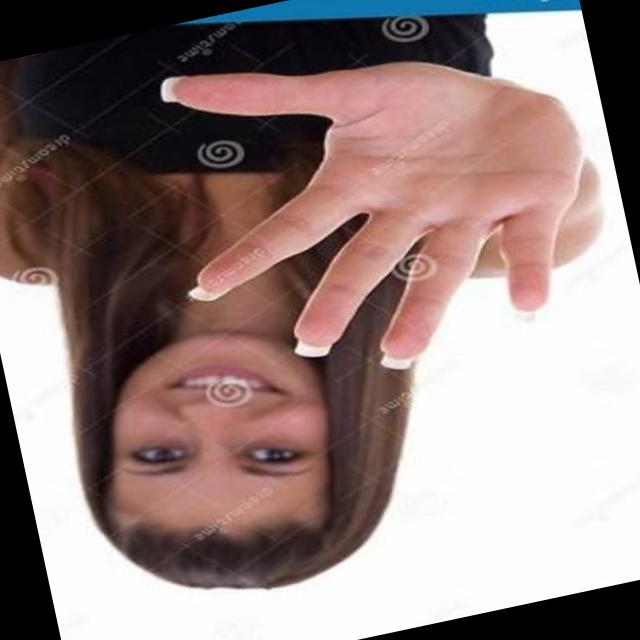not-gloved: (96, 0, 634, 457)
